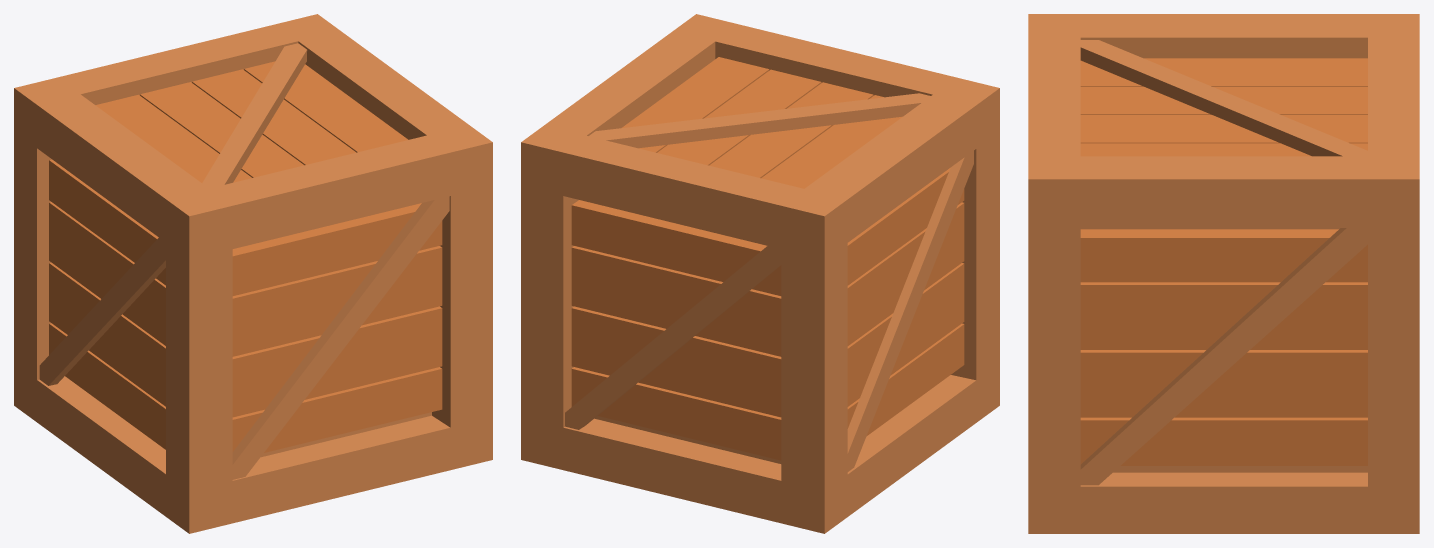
3 views of the same model, side by side, from view 1: azimuth 30°, elevation 25°; view 2: azimuth 150°, elevation 25°; view 3: azimuth 270°, elevation 25° (orthographic). The views are drawn at different scales.
Visible parts, largest first — view 1: Cube.001, Cube; view 2: Cube.001, Cube; view 3: Cube.001, Cube.
Boxes of the visible parts, x1,y1,x2,y2 form: Cube.001: [14, 14, 492, 533]; Cube: [49, 61, 442, 452]; Cube.001: [521, 14, 999, 533]; Cube: [571, 57, 964, 460]; Cube.001: [1028, 14, 1419, 533]; Cube: [1080, 58, 1367, 465].
Bounding box in the file's own units: 143 × 143 × 143.
